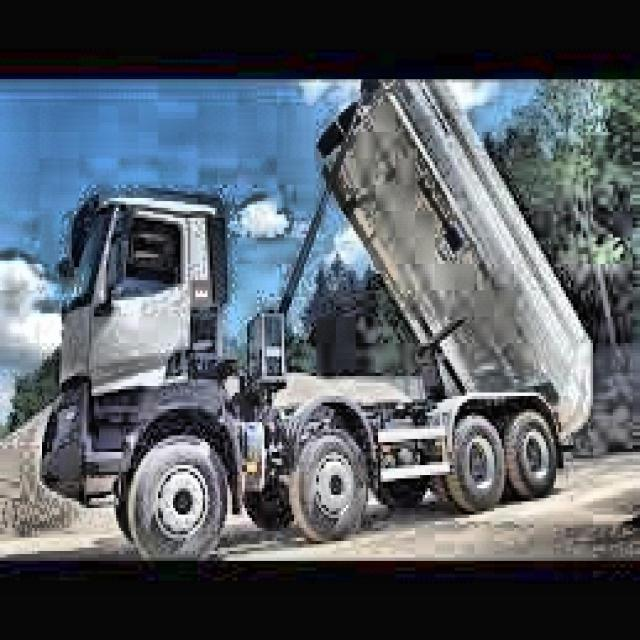dump_truck: (34, 87, 592, 552)
